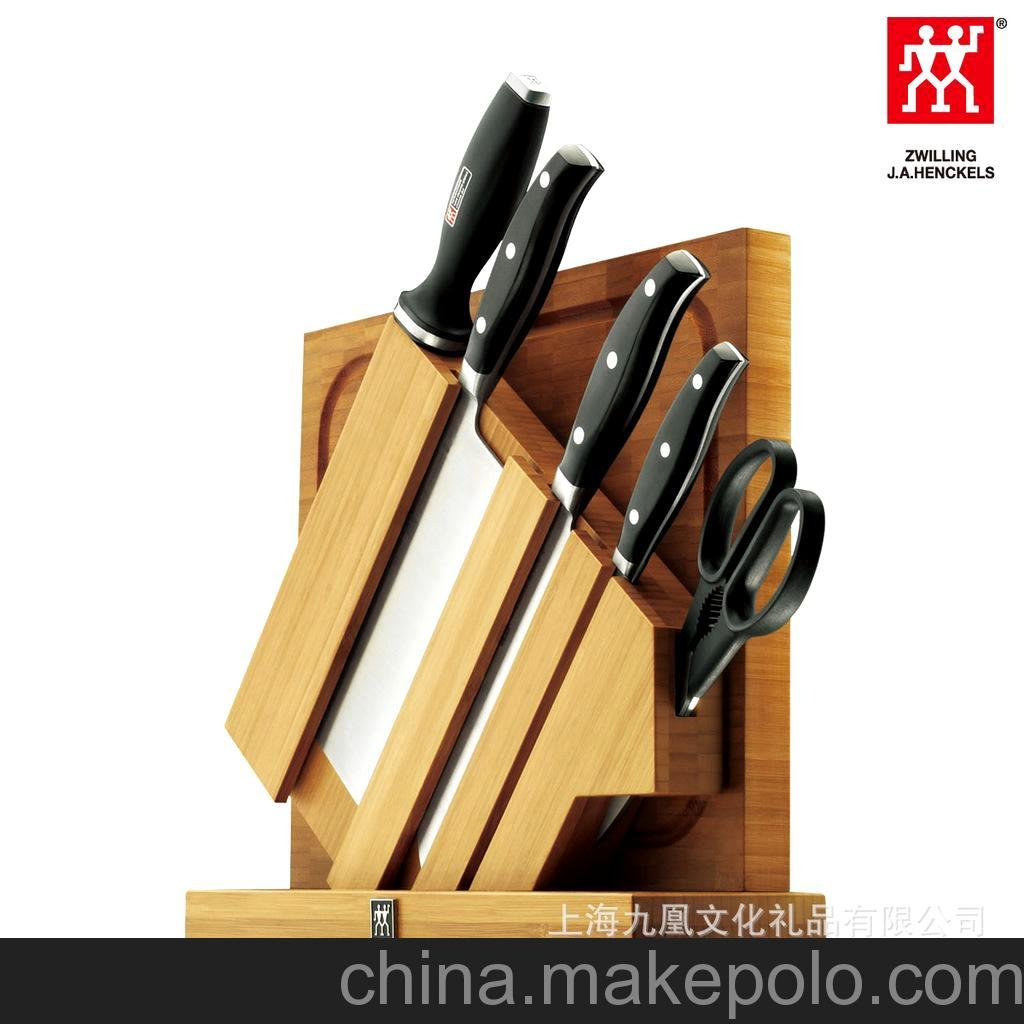knife: (238, 66, 662, 887)
